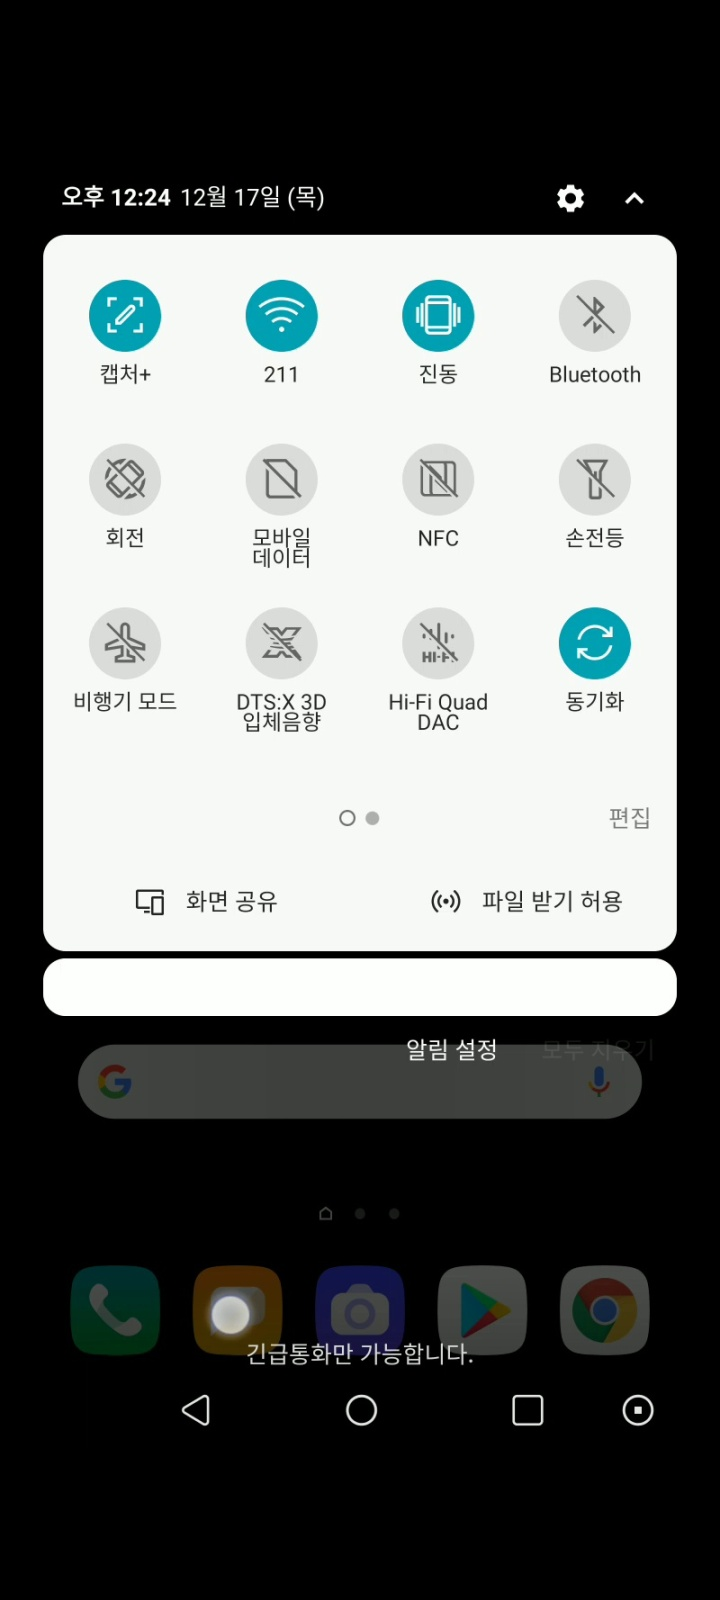Cursor: (210, 1292, 255, 1337)
